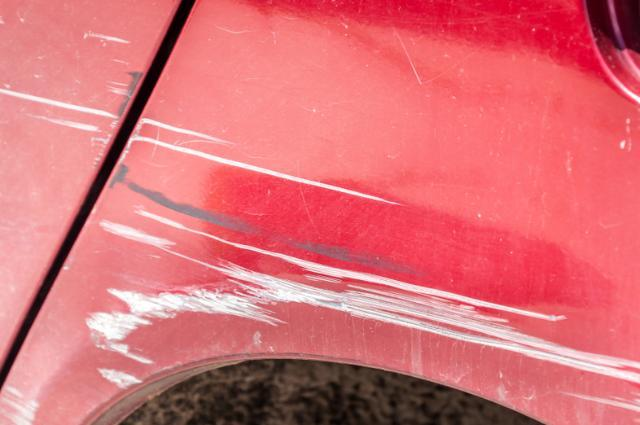Door: (0, 5, 133, 157)
Fender: (8, 103, 640, 425)
